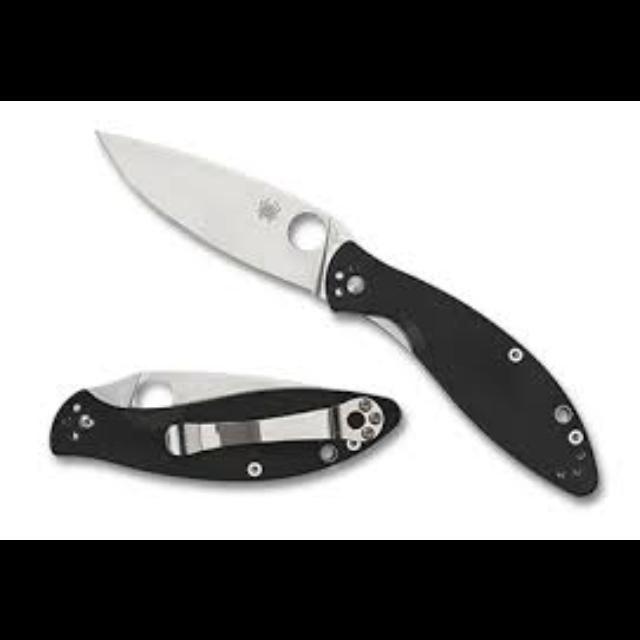knife: (92, 126, 600, 494)
